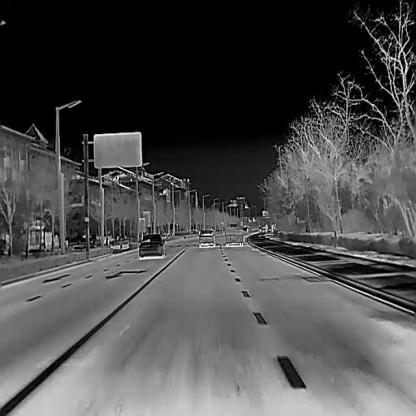car: (138, 233, 166, 257), (198, 228, 215, 247)
truck: (223, 222, 244, 247)
